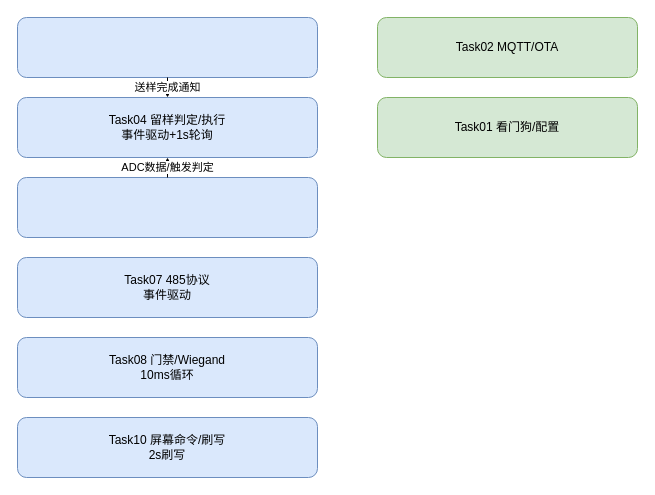
Some shapes in this 655 by 495 pixel diagram are drawn without their labels. Here are the shapes that lost their labels. From the top down, the box of each, then its label:
(16, 16, 318, 78): Task03 调度/采样送样FSM 100ms循环
(16, 176, 318, 238): Task06 ADC采集/留样判定输入 25ms循环
